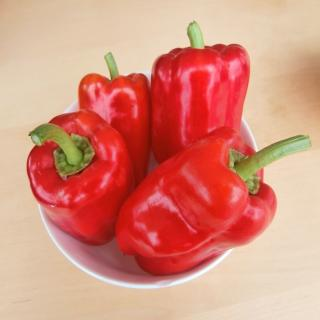Bell pepper: (115, 128, 311, 274), (152, 20, 252, 162), (26, 123, 136, 245), (78, 54, 152, 184)
